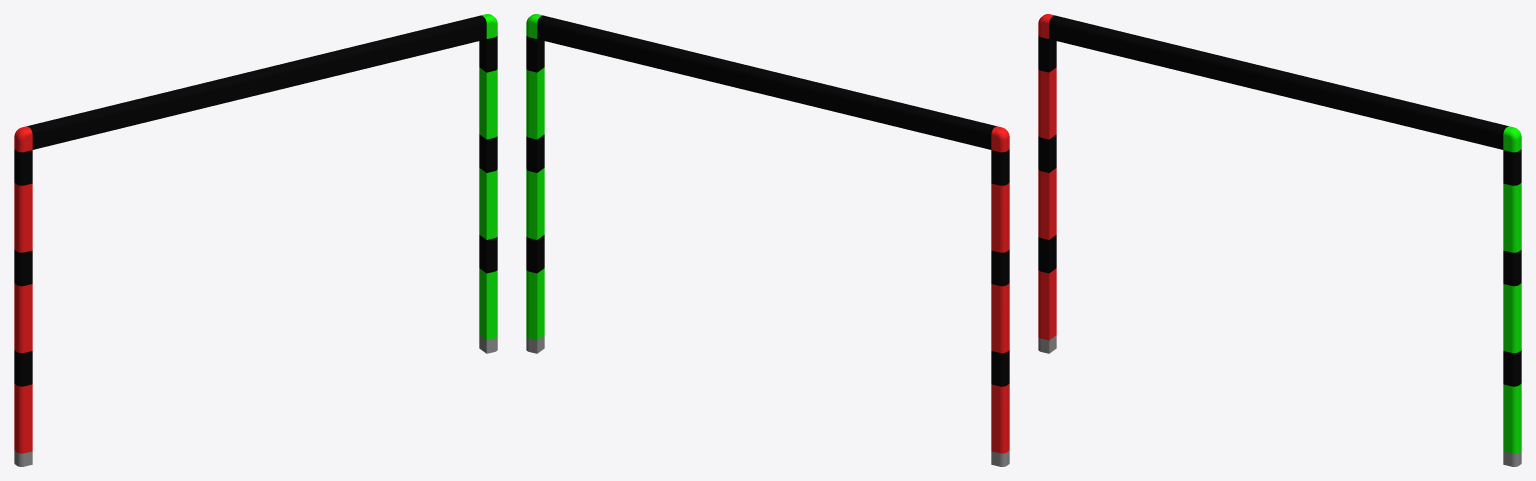
File: competition-gate.obj
3 renders of one model, left to right at view 1: azimuth 30°, elevation 25°; view 2: azimuth 150°, elevation 25°; view 3: azimuth 330°, elevation 25°, orthographic.
Visible parts, largest first — view 1: Entity17geometry, Entity6geometry, Entity7geometry, Entity14geometry, Entity15geometry, Entity13geometry, Entity8geometry, Entity3geometry, Entity10geometry, Entity2geometry, Entity4geometry, Entity11geometry (+1 smaller); view 2: Entity17geometry, Entity6geometry, Entity7geometry, Entity14geometry, Entity15geometry, Entity13geometry, Entity8geometry, Entity3geometry, Entity10geometry, Entity2geometry, Entity4geometry, Entity11geometry (+1 smaller); view 3: Entity17geometry, Entity14geometry, Entity6geometry, Entity13geometry, Entity8geometry, Entity7geometry, Entity15geometry, Entity3geometry, Entity10geometry, Entity9geometry, Entity4geometry, Entity11geometry (+1 smaller).
Part boxes in pixels (bbox=[...]): Entity17geometry: bbox=[27, 15, 486, 149]; Entity6geometry: bbox=[14, 182, 32, 252]; Entity7geometry: bbox=[14, 383, 32, 453]; Entity14geometry: bbox=[479, 67, 497, 139]; Entity15geometry: bbox=[479, 168, 497, 239]; Entity13geometry: bbox=[479, 268, 497, 340]; Entity8geometry: bbox=[14, 283, 32, 352]; Entity3geometry: bbox=[14, 249, 32, 286]; Entity10geometry: bbox=[479, 134, 497, 172]; Entity2geometry: bbox=[14, 149, 32, 185]; Entity4geometry: bbox=[14, 350, 32, 386]; Entity11geometry: bbox=[479, 235, 497, 273]; Entity17geometry: bbox=[537, 15, 996, 149]; Entity6geometry: bbox=[991, 182, 1009, 252]; Entity7geometry: bbox=[991, 383, 1009, 453]; Entity14geometry: bbox=[526, 67, 544, 139]; Entity15geometry: bbox=[526, 168, 544, 239]; Entity13geometry: bbox=[526, 268, 544, 340]; Entity8geometry: bbox=[991, 283, 1009, 352]; Entity3geometry: bbox=[991, 249, 1009, 286]; Entity10geometry: bbox=[526, 134, 544, 172]; Entity2geometry: bbox=[991, 149, 1009, 185]; Entity4geometry: bbox=[991, 350, 1009, 386]; Entity11geometry: bbox=[526, 235, 544, 273]; Entity17geometry: bbox=[1049, 15, 1508, 149]; Entity14geometry: bbox=[1503, 182, 1521, 252]; Entity6geometry: bbox=[1038, 67, 1056, 139]; Entity13geometry: bbox=[1503, 383, 1521, 453]; Entity8geometry: bbox=[1038, 168, 1056, 239]; Entity7geometry: bbox=[1038, 268, 1056, 340]; Entity15geometry: bbox=[1503, 283, 1521, 352]; Entity3geometry: bbox=[1038, 134, 1056, 172]; Entity10geometry: bbox=[1503, 249, 1521, 286]; Entity9geometry: bbox=[1503, 149, 1521, 185]; Entity4geometry: bbox=[1038, 235, 1056, 273]; Entity11geometry: bbox=[1503, 350, 1521, 386].
Bounding box in the file's own units: 150 × 100 × 4.
